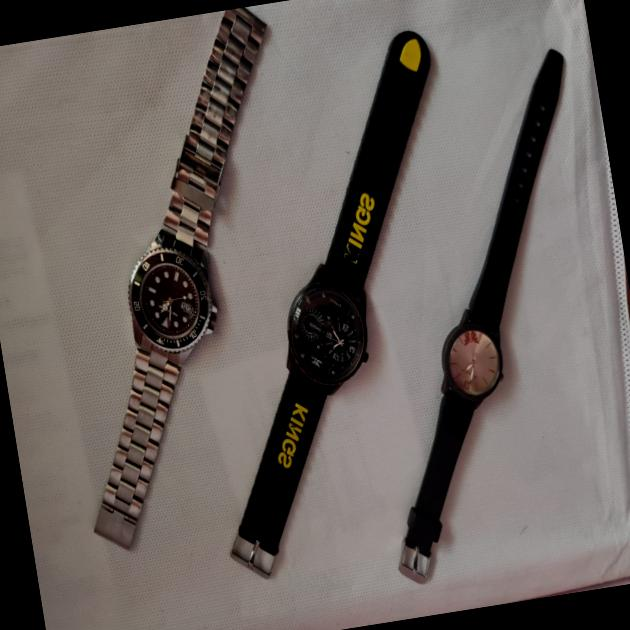wristwatc: (140, 0, 509, 572), (0, 6, 331, 546), (317, 36, 630, 583)
